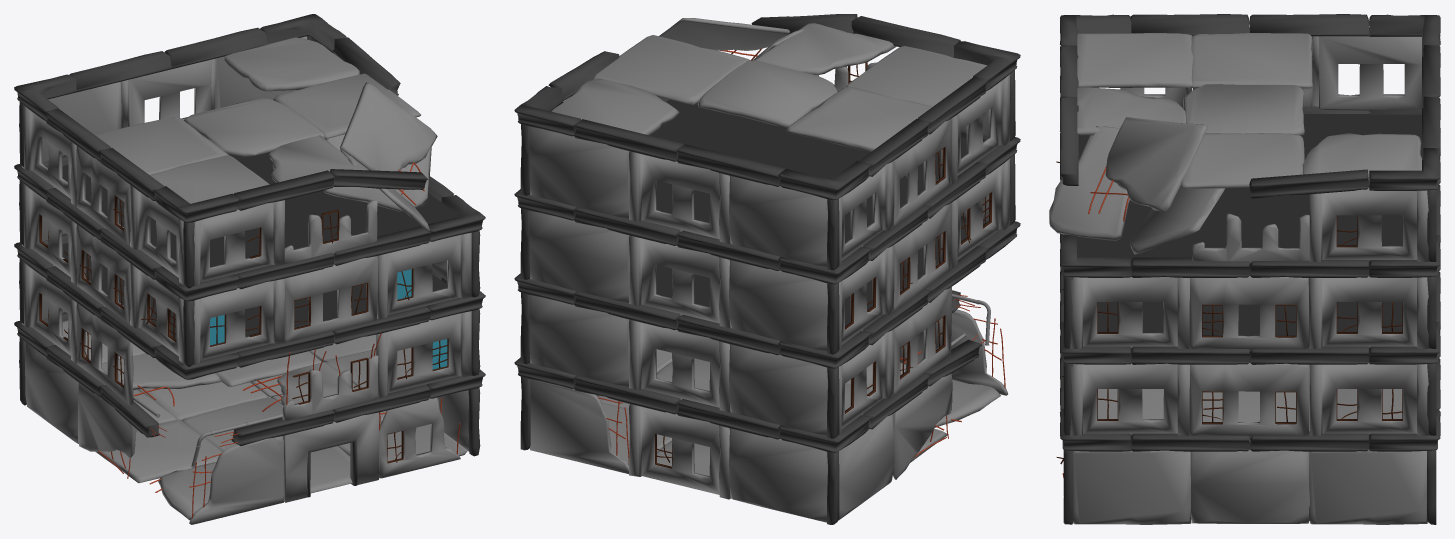
The model's file is SM_building_ruins_05.fbx.
3 renders of one model, left to right at view 1: azimuth 30°, elevation 25°; view 2: azimuth 150°, elevation 25°; view 3: azimuth 270°, elevation 25°, orthographic. The views are drawn at different scales.
Visible parts, largest first — view 1: Object32390; view 2: Object32390; view 3: Object32390.
Part boxes in pixels (box(x1,y1,x2,y2)): Object32390: box(14, 14, 485, 524); Object32390: box(514, 14, 1020, 524); Object32390: box(1049, 14, 1440, 524).
Size of the model in its own units: 652 by 679 by 646.
